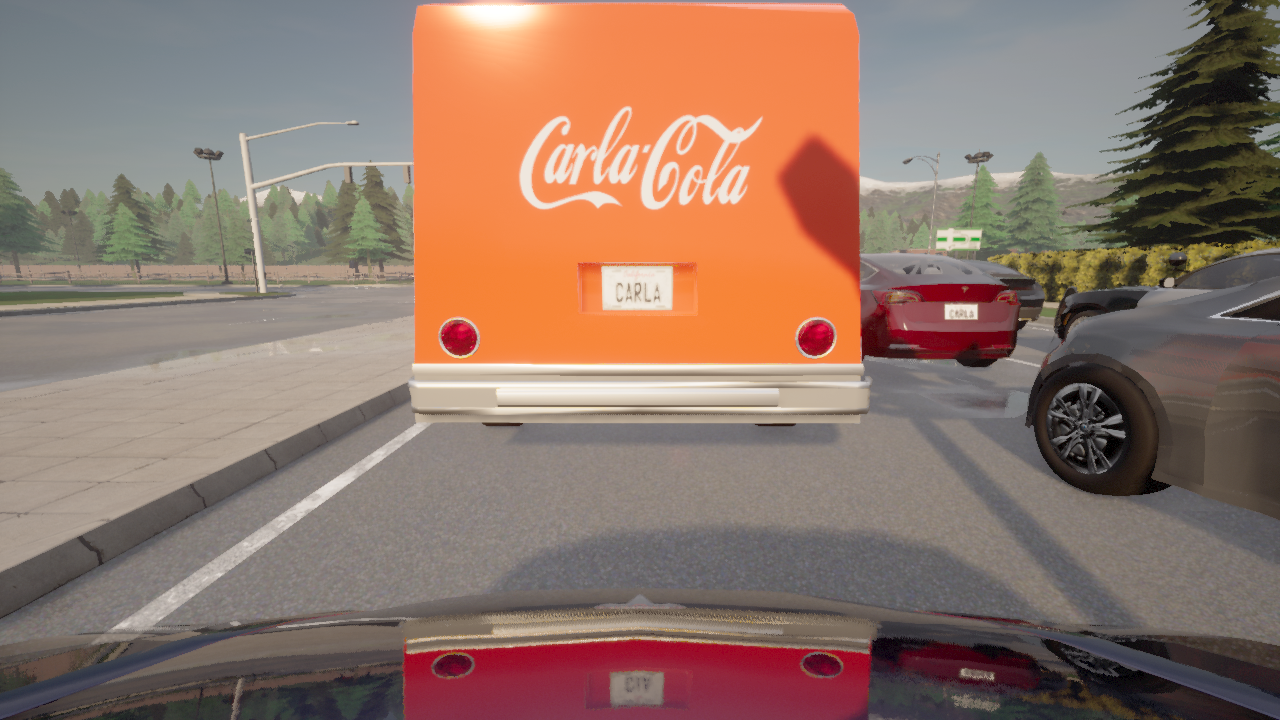cyclist: (408, 3, 871, 426), (0, 588, 1279, 719), (1024, 275, 1279, 520), (1054, 248, 1279, 330), (860, 253, 1021, 366), (959, 259, 1044, 330)
